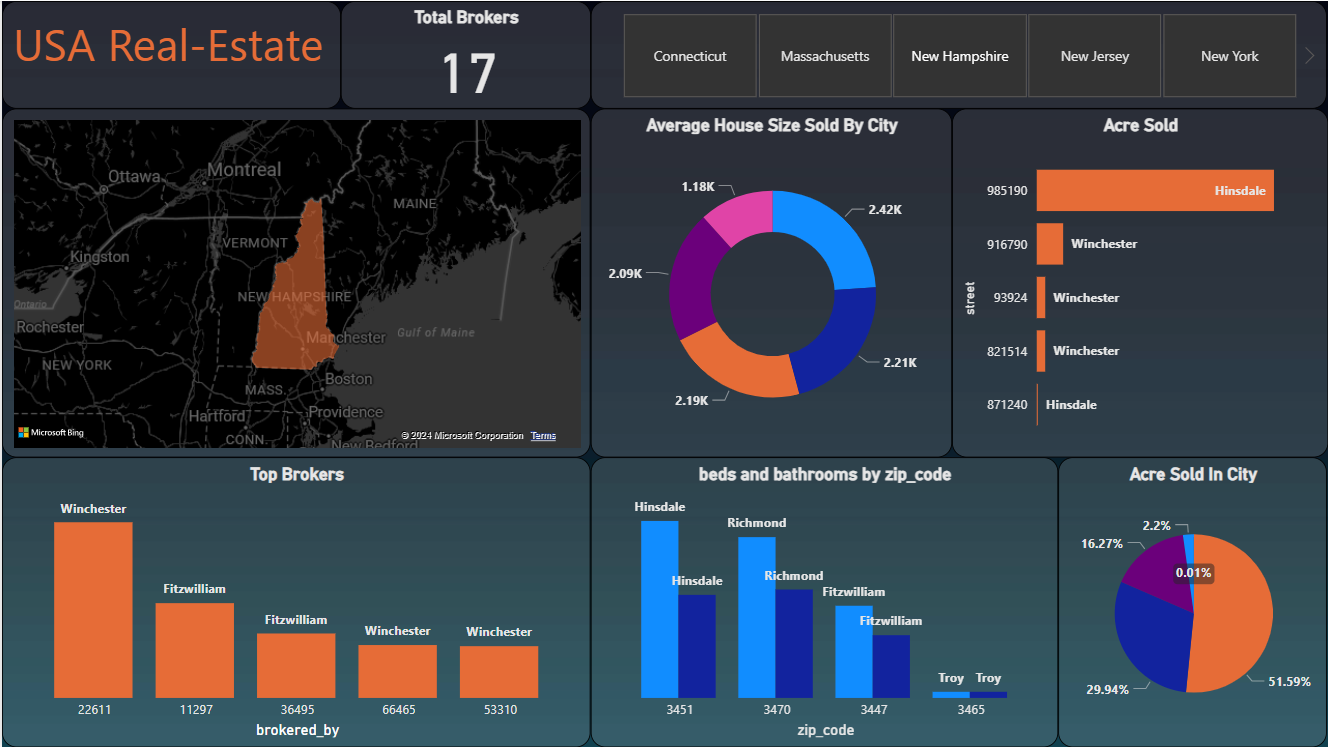

The page's visual inventory and layout, read from the dashboard file:
{"tool":"powerbi","page":{"name":"Page 1","canvas":[1280,720],"ordinal":0},"visuals":[{"type":"columnChart","title":"Top Brokers","fields":{"Category":["realtor-data zip.brokered_by"],"Y":["Sum(realtor-data zip.price)"]},"box":[0,440.4,568.2,279.9],"z":0},{"type":"filledMap","fields":{"Category":["realtor-data zip.state"]},"box":[0,103.8,568.2,336.6],"z":1000},{"type":"pieChart","title":"Acre Sold In City","fields":{"Category":["realtor-data zip.city"],"Y":["Sum(realtor-data zip.acre_lot)"]},"box":[1019.4,440.4,259.4,279.9],"z":2000},{"type":"card","title":"Total Brokers ","fields":{"Values":["Count(realtor-data zip.brokered_by)"]},"box":[326.9,0,241.3,103.8],"z":3000},{"type":"clusteredColumnChart","title":"beds and bathrooms by zip_code","fields":{"Category":["realtor-data zip.zip_code"],"Y":["Sum(realtor-data zip.bed)","Sum(realtor-data zip.bath)"]},"box":[568.2,440.4,451.2,279.9],"z":4000},{"type":"slicer","fields":{"Values":["realtor-data zip.state"]},"box":[568.2,0,710.6,103.8],"z":5000},{"type":"barChart","title":"Acre Sold ","fields":{"Category":["realtor-data zip.street"],"Y":["Sum(realtor-data zip.acre_lot)"]},"box":[916.9,103.8,363.1,336.6],"z":6000},{"type":"donutChart","title":"Average House Size Sold By City","fields":{"Category":["realtor-data zip.city"],"Y":["Avg(realtor-data zip.house_size(sq_ft))"]},"box":[568.2,103.8,348.7,336.6],"z":7000},{"type":"textbox","box":[0,0,326.9,103.8],"z":7001}]}

Visuals, with their boxes in screenshot pixels (x1, y1, x2, y2), scaled from the page's 1280x720 canvas onto the 1328x747 screenshot:
"Top Brokers" columnChart: left=0, top=457, right=590, bottom=746
filledMap - realtor-data zip.state: left=0, top=108, right=590, bottom=457
"Acre Sold In City" pieChart: left=1058, top=457, right=1327, bottom=746
"Total Brokers " card: left=339, top=0, right=590, bottom=108
"beds and bathrooms by zip_code" clusteredColumnChart: left=590, top=457, right=1058, bottom=746
slicer - realtor-data zip.state: left=590, top=0, right=1327, bottom=108
"Acre Sold " barChart: left=951, top=108, right=1327, bottom=457
"Average House Size Sold By City" donutChart: left=590, top=108, right=951, bottom=457
textbox: left=0, top=0, right=339, bottom=108
